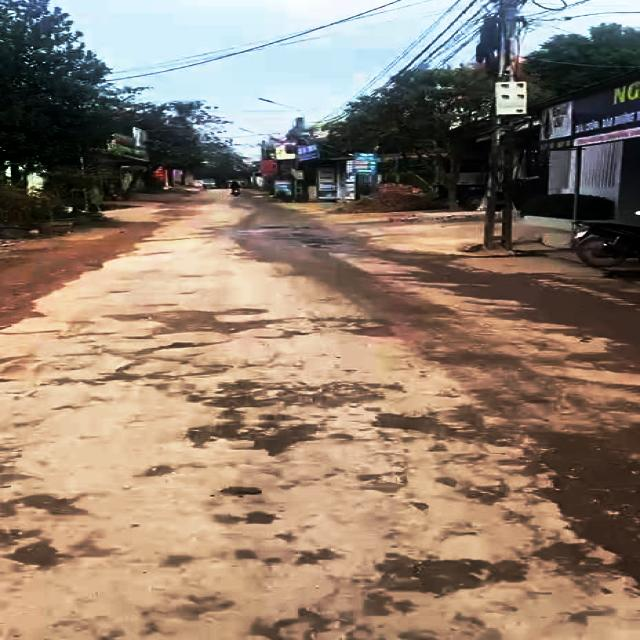pothole: (502, 424, 640, 585), (348, 542, 528, 615), (186, 377, 408, 413), (74, 341, 247, 387), (185, 412, 353, 458), (362, 410, 522, 450), (98, 308, 294, 338), (0, 529, 127, 571), (0, 489, 91, 520), (342, 321, 401, 343)
